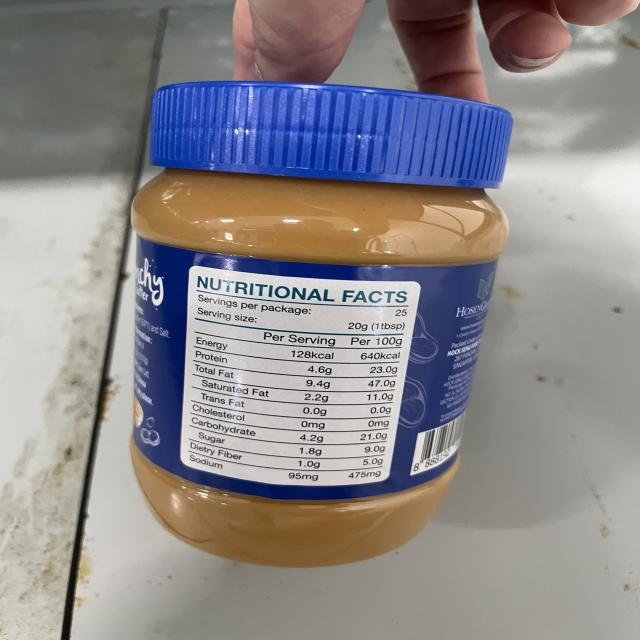object_name: (138, 93, 486, 552)
